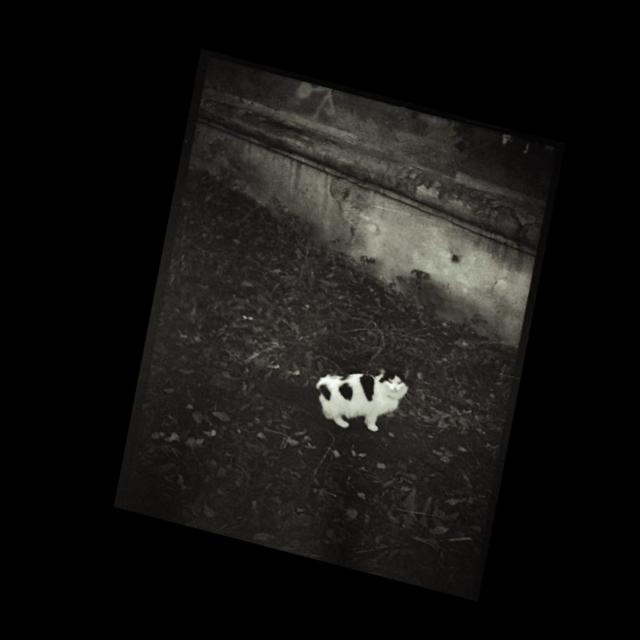animals: (295, 338, 414, 441)
